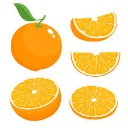orange: (11, 2, 63, 72), (9, 76, 63, 122)
